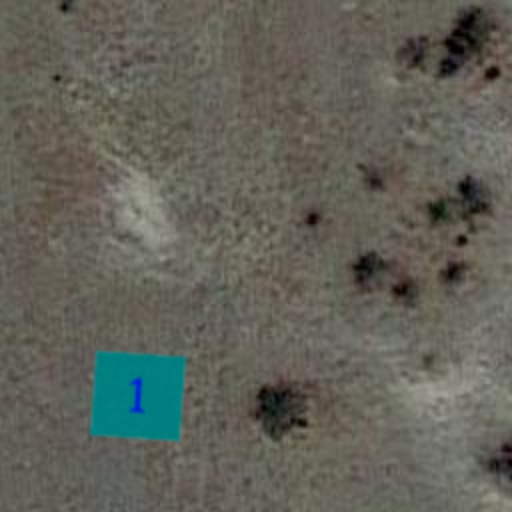rectangle: (88, 346, 188, 446)
